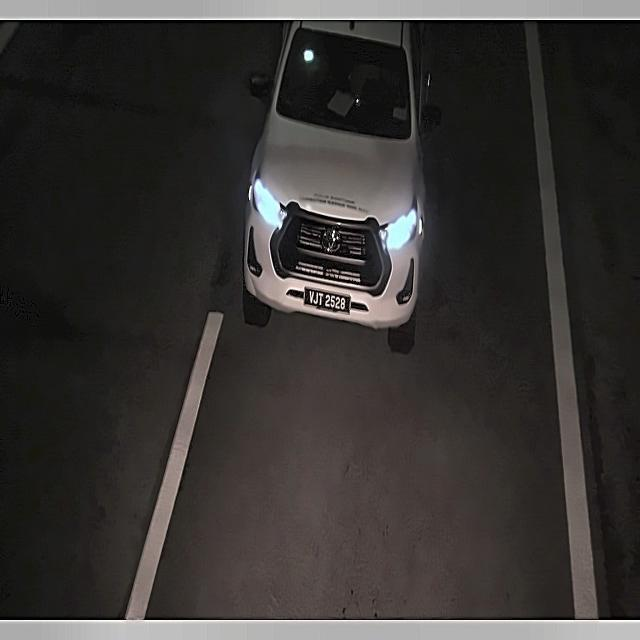car: (300, 276, 354, 322)
